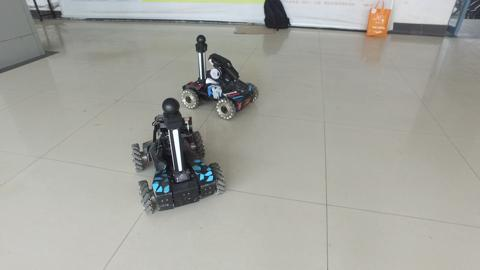chariot: (124, 97, 226, 219), (178, 33, 257, 121)
